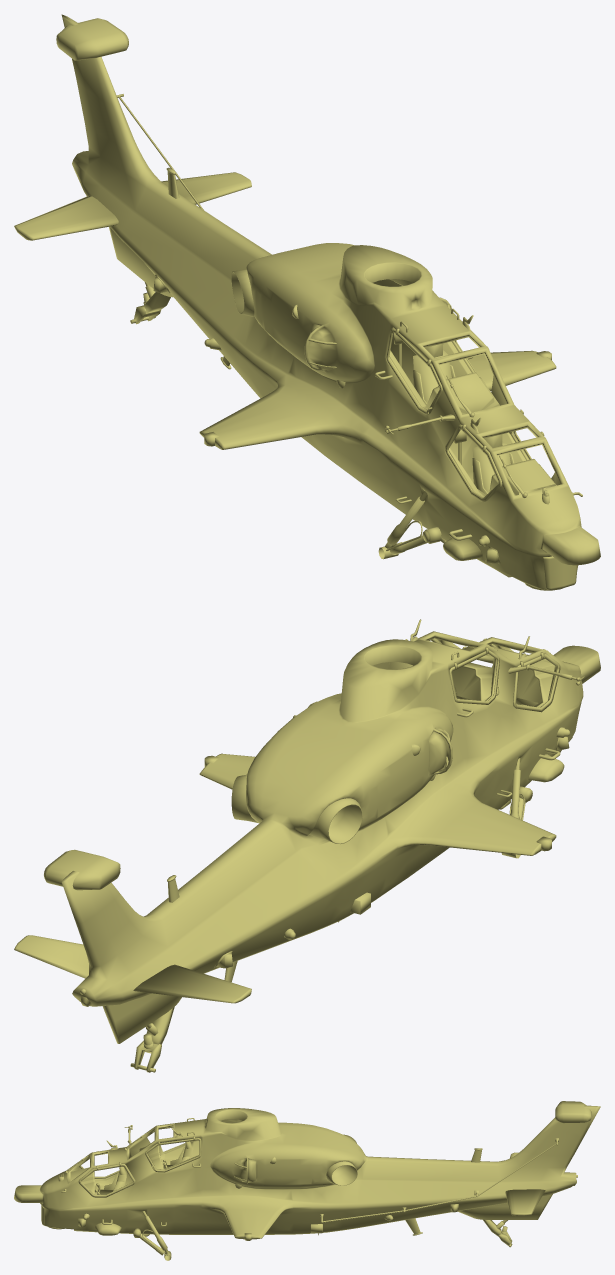
3 views of the same model, one above another, from view 1: azimuth 30°, elevation 25°; view 2: azimuth 150°, elevation 25°; view 3: azimuth 270°, elevation 25° (orthographic). The views are drawn at different scales.
Parts seen in each view (by area): view 1: z10_reference, z10_reference.038, z10_reference.109, z10_reference.053, z10_reference.237, z10_reference.096, z10_reference.060, z10_reference.187, z10_reference.081, z10_reference.029; view 2: z10_reference, z10_reference.038, z10_reference.109, z10_reference.053, z10_reference.096, z10_reference.237, z10_reference.081, z10_reference.080, z10_reference.187, z10_reference.029; view 3: z10_reference, z10_reference.038, z10_reference.096, z10_reference.237, z10_reference.053, z10_reference.080, z10_reference.021, z10_reference.232, z10_reference.236.
Boxes of the visible parts, <box> form: z10_reference: <box>61,14,600,590</box>; z10_reference.038: <box>389,341,556,497</box>; z10_reference.109: <box>14,195,118,240</box>; z10_reference.053: <box>56,18,128,60</box>; z10_reference.237: <box>161,172,251,204</box>; z10_reference.096: <box>109,226,173,297</box>; z10_reference.060: <box>543,556,577,590</box>; z10_reference.187: <box>444,424,502,502</box>; z10_reference.081: <box>231,269,254,316</box>; z10_reference.029: <box>386,328,442,415</box>; z10_reference: <box>62,631,600,1006</box>; z10_reference.038: <box>449,660,554,707</box>; z10_reference.109: <box>133,964,251,1003</box>; z10_reference.053: <box>44,849,120,890</box>; z10_reference.096: <box>102,993,181,1043</box>; z10_reference.237: <box>14,935,88,978</box>; z10_reference.081: <box>309,798,362,843</box>; z10_reference.080: <box>231,774,258,823</box>; z10_reference.187: <box>513,654,560,712</box>; z10_reference.029: <box>449,650,499,704</box>; z10_reference: <box>14,1105,600,1239</box>; z10_reference.038: <box>70,1138,200,1194</box>; z10_reference.096: <box>458,1194,552,1220</box>; z10_reference.237: <box>505,1189,545,1215</box>; z10_reference.053: <box>555,1101,591,1122</box>; z10_reference.080: <box>326,1161,357,1185</box>; z10_reference.021: <box>322,1143,556,1222</box>; z10_reference.232: <box>78,1163,135,1197</box>; z10_reference.236: <box>145,1138,201,1172</box>.
Bounding box in the file's own units: 230 × 159 × 608.
